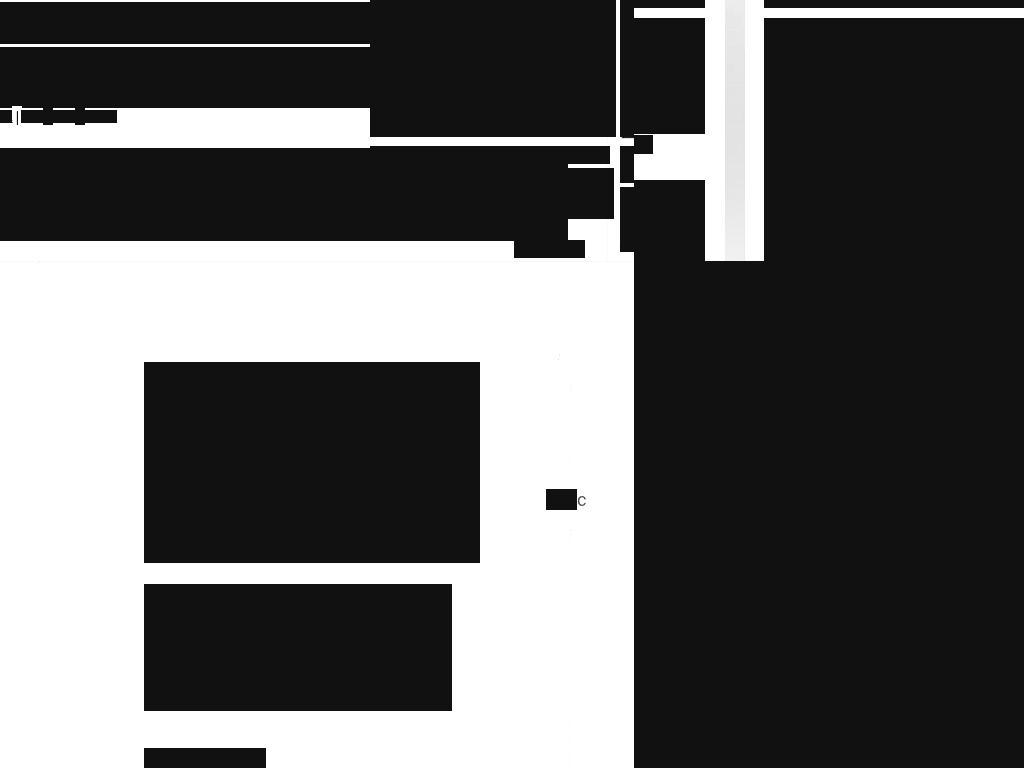button: (764, 18, 1024, 261), (805, 507, 1001, 768), (634, 685, 788, 750), (634, 18, 705, 134), (634, 180, 705, 261), (686, 346, 766, 412), (766, 346, 846, 412), (846, 346, 926, 412), (926, 346, 1006, 412), (939, 357, 999, 423), (634, 346, 686, 412), (144, 748, 266, 768), (927, 480, 989, 504), (514, 240, 585, 258), (710, 270, 770, 289), (764, 506, 795, 537), (648, 611, 661, 625), (665, 611, 678, 625), (682, 611, 695, 625), (699, 611, 712, 625), (716, 611, 729, 625), (733, 611, 746, 625), (750, 611, 763, 625), (767, 611, 780, 625)
field: (634, 261, 686, 298)
heading: (634, 261, 1024, 768), (144, 362, 480, 563), (0, 2, 556, 44), (0, 148, 568, 172), (0, 171, 568, 195), (0, 194, 568, 218), (0, 217, 568, 241), (370, 146, 610, 164), (764, 0, 1024, 8), (814, 485, 875, 504), (649, 759, 752, 768)
image: (634, 357, 1001, 768), (764, 18, 1024, 261), (789, 421, 1024, 632), (370, 0, 616, 137), (634, 421, 790, 632), (634, 685, 786, 748), (805, 421, 1002, 467), (634, 18, 705, 134), (634, 180, 705, 261), (918, 732, 1024, 768), (939, 357, 999, 417), (703, 346, 749, 392), (783, 346, 829, 392), (863, 346, 909, 392), (943, 346, 989, 392), (634, 346, 669, 392), (994, 306, 1001, 334), (994, 261, 1001, 284)
link: (686, 391, 766, 412), (766, 391, 846, 412), (846, 391, 926, 412), (926, 391, 1006, 412), (880, 315, 978, 330), (634, 391, 686, 412), (731, 315, 802, 330), (444, 202, 509, 218), (817, 315, 866, 330), (668, 315, 716, 330), (84, 110, 117, 123), (52, 110, 76, 123), (634, 315, 654, 330), (21, 110, 44, 123), (0, 110, 13, 123)
text: (144, 584, 452, 711), (0, 47, 585, 108), (370, 168, 614, 219), (546, 489, 577, 510), (634, 135, 653, 154), (12, 106, 22, 125), (43, 106, 53, 125), (75, 106, 85, 125)
